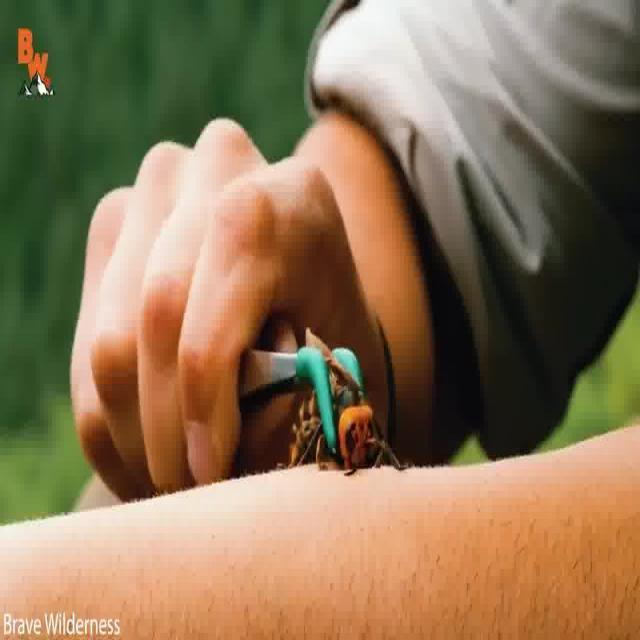Wasp: (294, 340, 400, 484)
